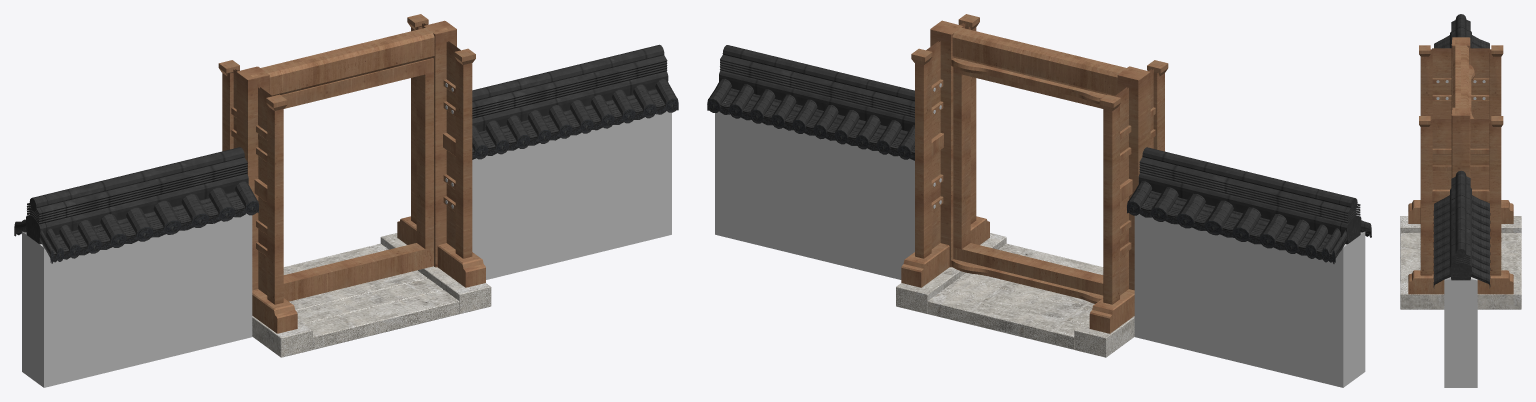
The model's file is SM_JSH_HG_StoneWallH_Splines_16.fbx.
3 views of the same model, side by side, from view 1: azimuth 30°, elevation 25°; view 2: azimuth 150°, elevation 25°; view 3: azimuth 270°, elevation 25° (orthographic). The views are drawn at different scales.
Visible parts, largest first — view 1: SM_JSH_HG_StoneWallH_Splines_16; view 2: SM_JSH_HG_StoneWallH_Splines_16; view 3: SM_JSH_HG_StoneWallH_Splines_16.
Part boxes in pixels (bbox=[...]): SM_JSH_HG_StoneWallH_Splines_16: bbox=[14, 14, 678, 387]; SM_JSH_HG_StoneWallH_Splines_16: bbox=[707, 14, 1371, 387]; SM_JSH_HG_StoneWallH_Splines_16: bbox=[1400, 14, 1521, 387].
Bounding box in the file's own units: 645 × 141 × 248.
